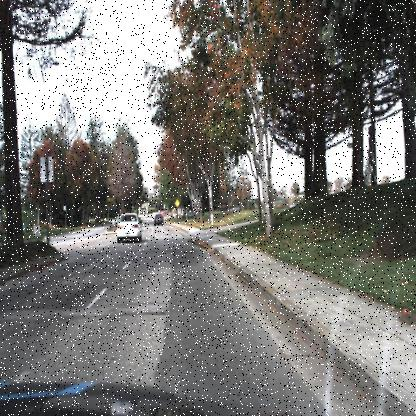car: (117, 212, 142, 244), (154, 213, 164, 228)
